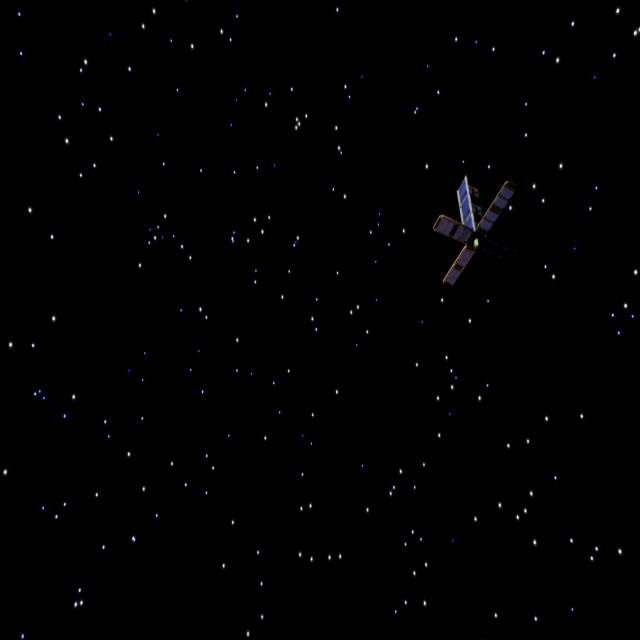satellite: (418, 156, 520, 292)
